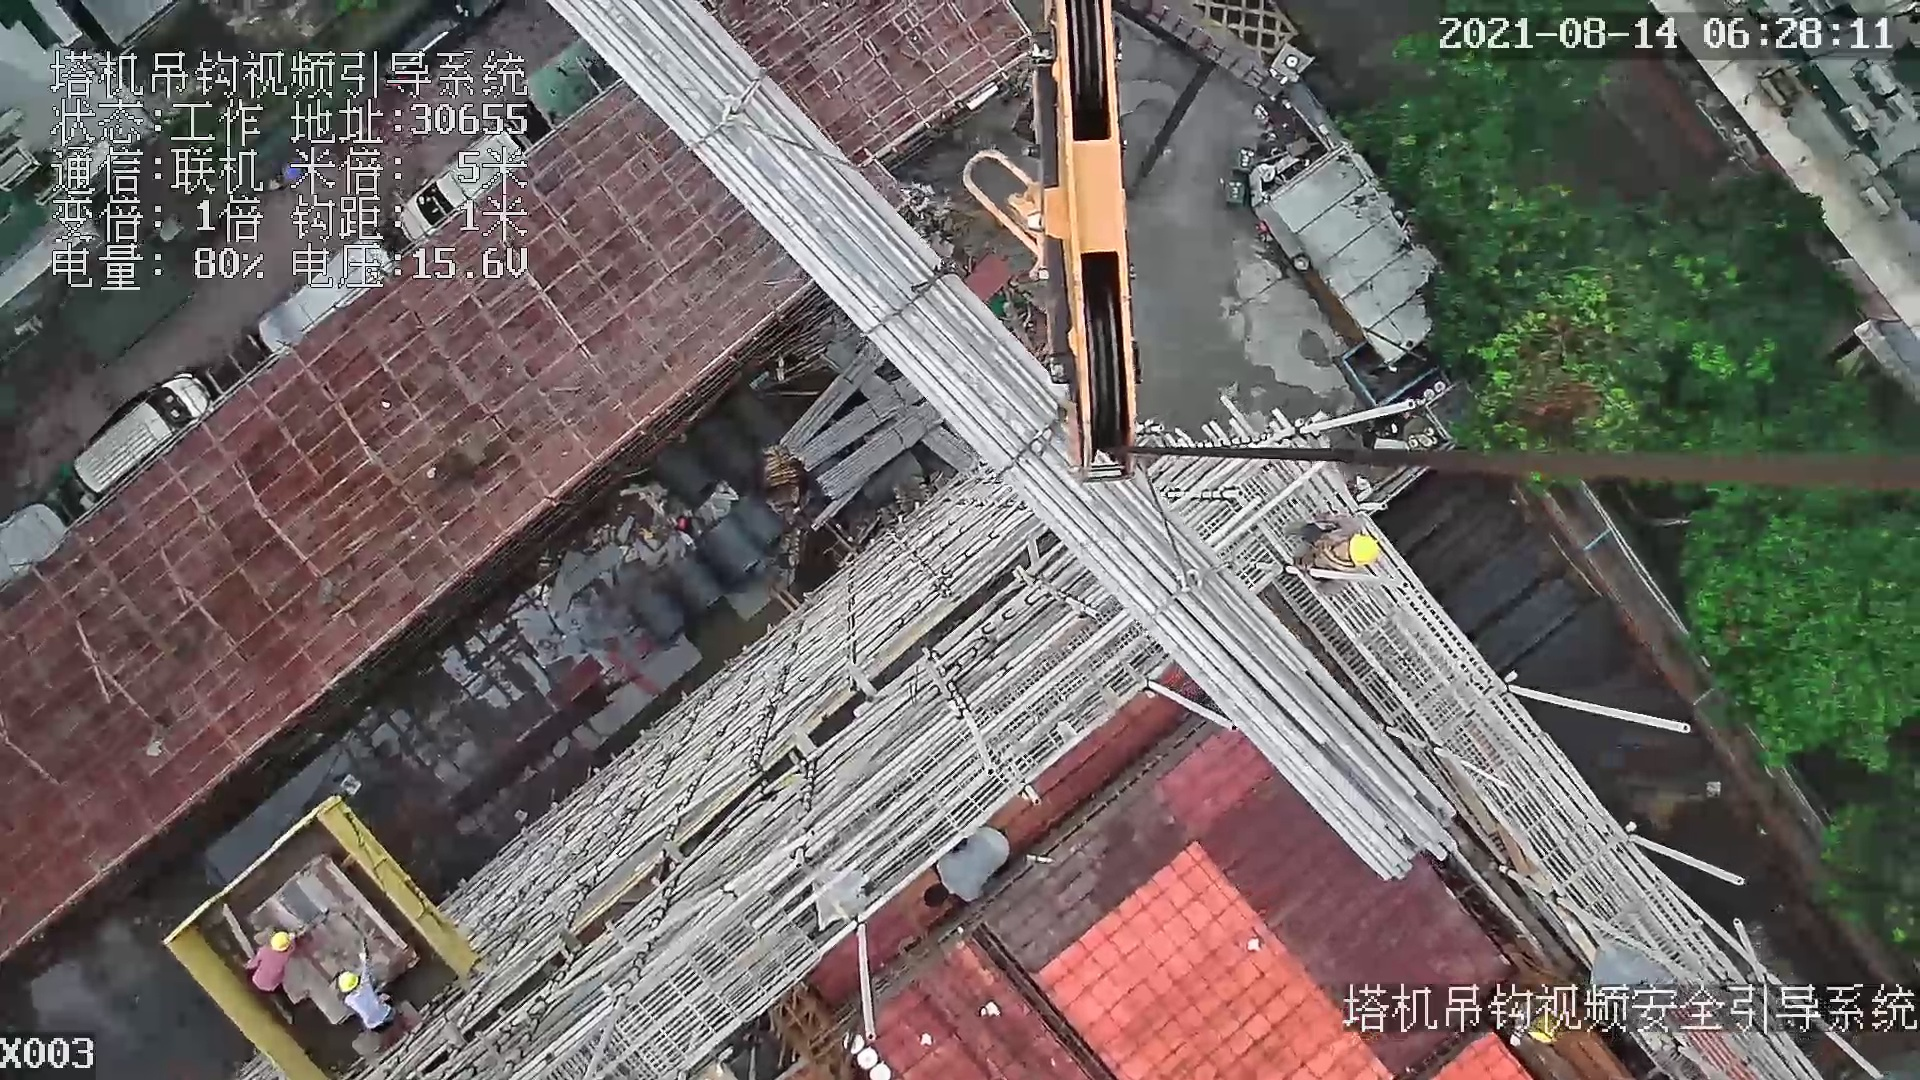helmet: (1340, 520, 1388, 569), (330, 967, 368, 999), (262, 930, 295, 952)
hook: (1034, 1, 1144, 484)
person: (1289, 516, 1381, 598), (323, 947, 399, 1030), (240, 931, 299, 999)
